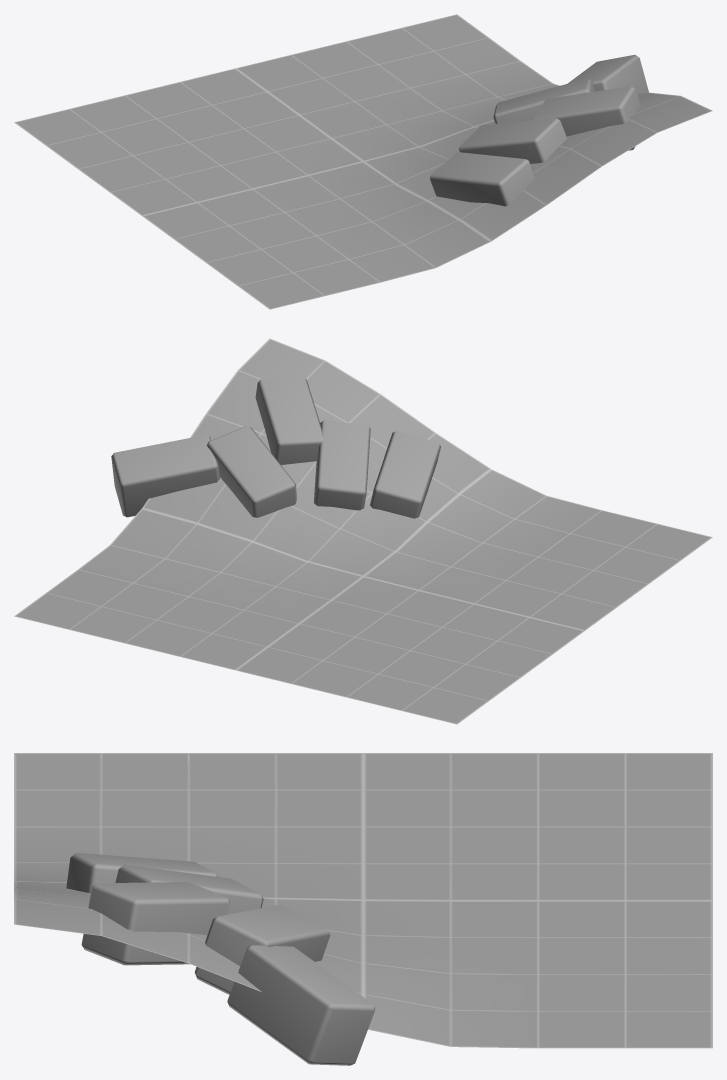
The model's file is proto_debris_corner_01.fbx.
3 renders of one model, top to bottom at view 1: azimuth 30°, elevation 25°; view 2: azimuth 150°, elevation 25°; view 3: azimuth 270°, elevation 25°, orthographic. The views are drawn at different scales.
Visible parts, largest first — view 1: proto_debris_corner_01; view 2: proto_debris_corner_01; view 3: proto_debris_corner_01.
Part boxes in pixels (x1,y1,x2,y2): proto_debris_corner_01: (14,14,712,309); proto_debris_corner_01: (14,338,712,724); proto_debris_corner_01: (14,753,712,1065).
Size of the model in its own units: 220 by 44.7 by 200.
